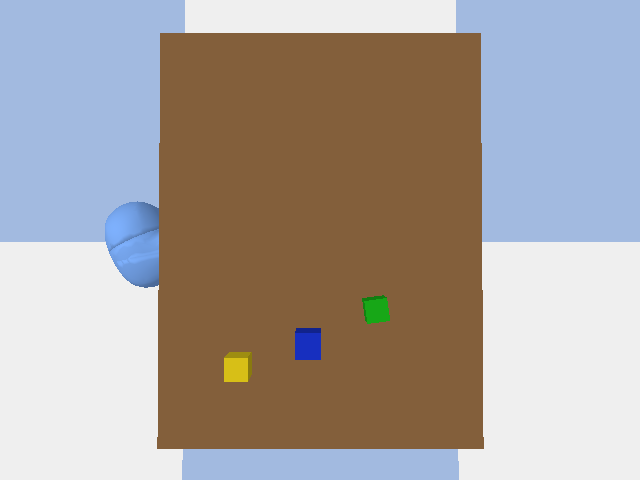blue_obj: (295, 328, 320, 359)
green_obj: (362, 295, 389, 323)
yellow_obj: (224, 352, 251, 381)
